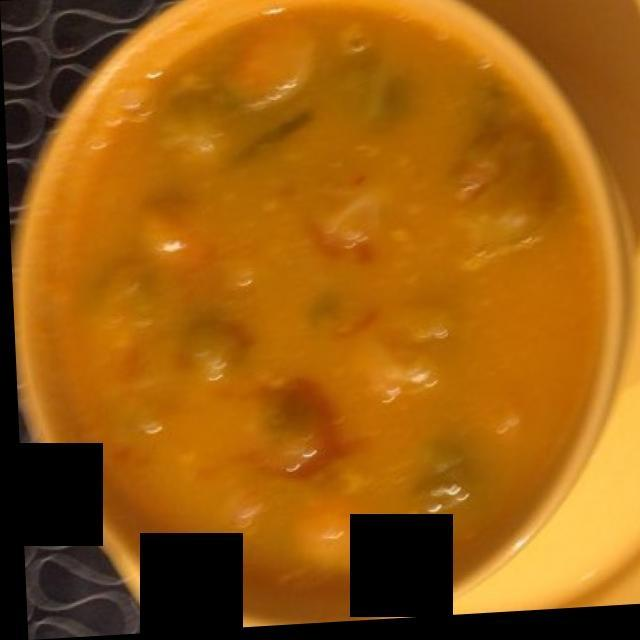soup: (36, 12, 582, 592)
